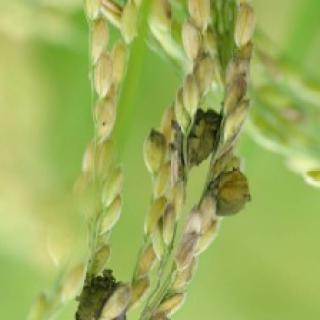Gosong-Palsu: (76, 269, 120, 319), (189, 109, 220, 167), (214, 169, 250, 214)
